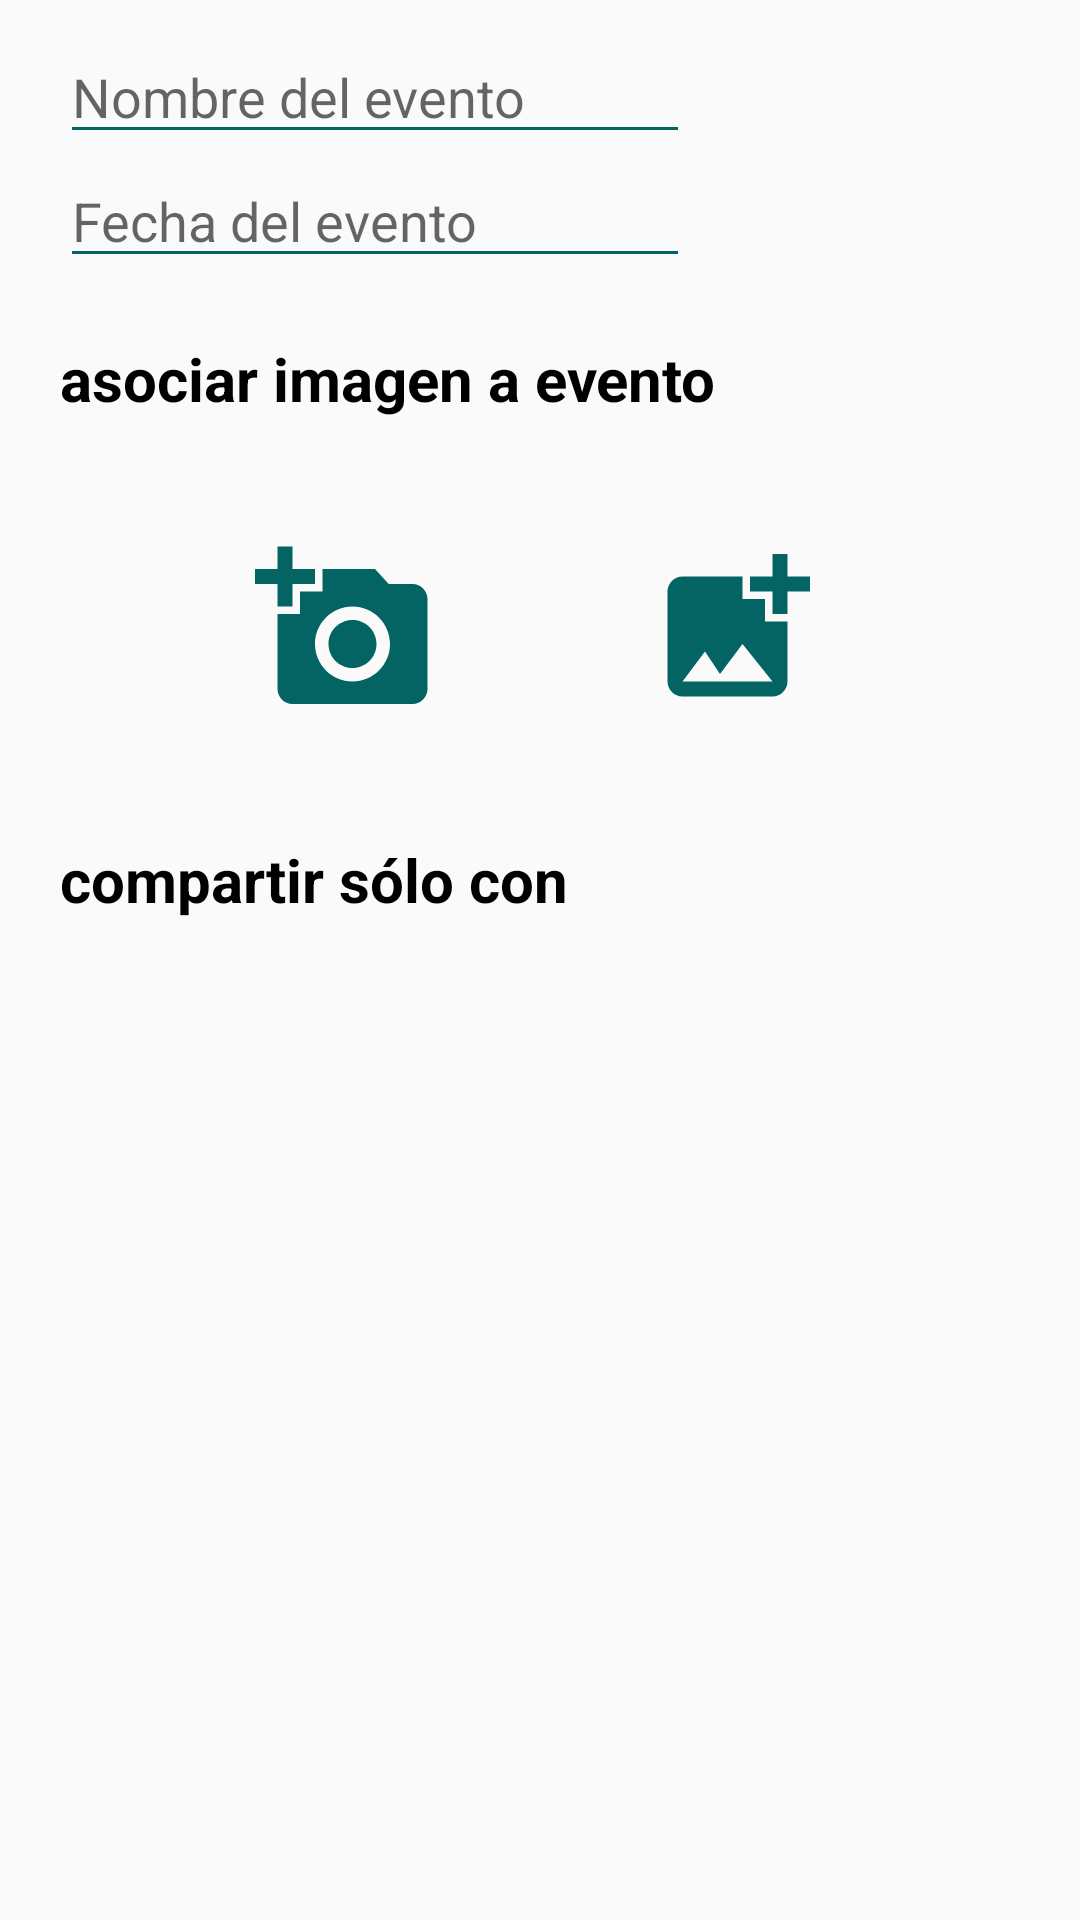

Point at icon controls on the screen. Image size 1080 × 1920, points as (x,y).
add photo: (738,625)
take photo: (341,625)
